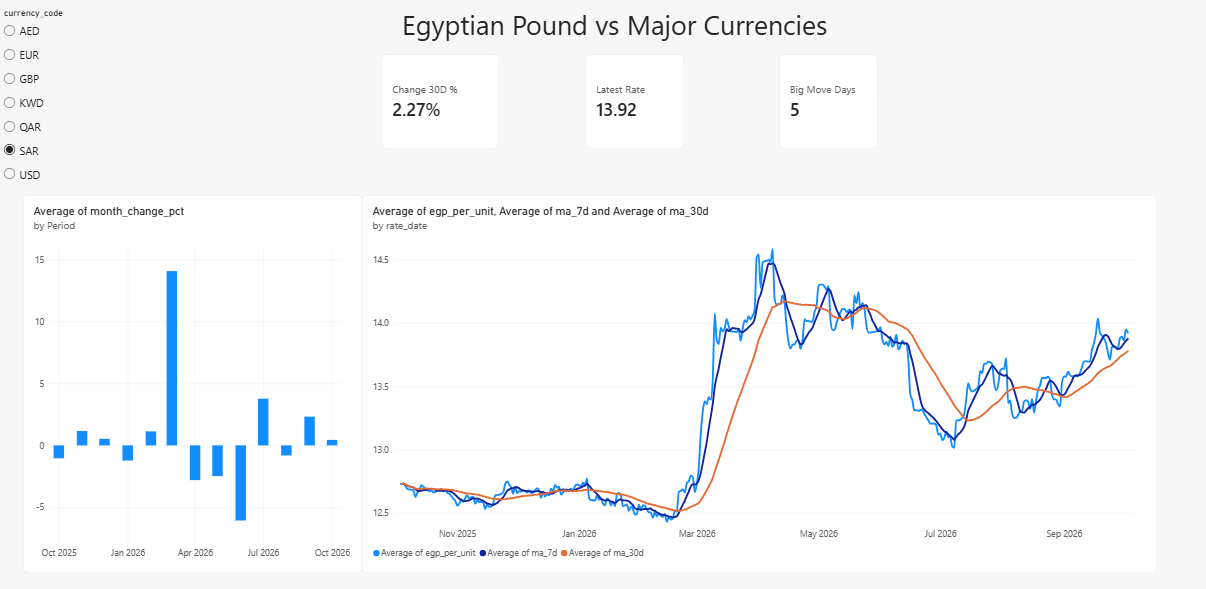

What the dashboard file says about the page in this screenshot:
{"tool":"powerbi","page":{"name":"Page 1","canvas":[1920,1080],"ordinal":0},"visuals":[{"type":"slicer","fields":{"Values":["dim_currency.currency_code"]},"box":[0,93.1,238.6,298.2],"z":0},{"type":"cardVisual","fields":{"Data":["vw_fx_daily.Change 30D %"]},"box":[608.4,167,186.1,150.3],"z":2},{"type":"cardVisual","fields":{"Data":["vw_fx_daily.Latest Rate"]},"box":[932.9,167,157,150],"z":3},{"type":"cardVisual","fields":{"Data":["vw_fx_daily.Big Move Days"]},"box":[1240.7,167,157,150],"z":4},{"type":"lineChart","fields":{"Category":["vw_fx_daily.rate_date"],"Y":["Avg(vw_fx_daily.egp_per_unit)","Avg(vw_fx_daily.ma_7d)","Avg(vw_fx_daily.ma_30d)"]},"box":[577.4,391.3,1264.5,601.3],"z":5},{"type":"clusteredColumnChart","fields":{"Category":["vw_fx_monthly.Period"],"Y":["Avg(vw_fx_monthly.month_change_pct)"]},"box":[38.2,391.3,539.2,601.3],"z":6},{"type":"textbox","box":[38.2,90.7,1882.5,150.3],"z":7}]}

Visuals, with their boxes on the page's 1920x1080 design canvas (x1, y1, x2, y2). These are canvas units, not pixel positions in the 1206x589 screenshot, which may show the page scaled, cropped or inside an application window:
slicer - dim_currency.currency_code: Rect(0, 93, 239, 391)
cardVisual - vw_fx_daily.Change 30D %: Rect(608, 167, 794, 317)
cardVisual - vw_fx_daily.Latest Rate: Rect(933, 167, 1090, 317)
cardVisual - vw_fx_daily.Big Move Days: Rect(1241, 167, 1398, 317)
lineChart - vw_fx_daily.rate_date x Avg(vw_fx_daily.egp_per_unit): Rect(577, 391, 1842, 993)
clusteredColumnChart - vw_fx_monthly.Period x Avg(vw_fx_monthly.month_change_pct): Rect(38, 391, 577, 993)
textbox: Rect(38, 91, 1921, 241)
